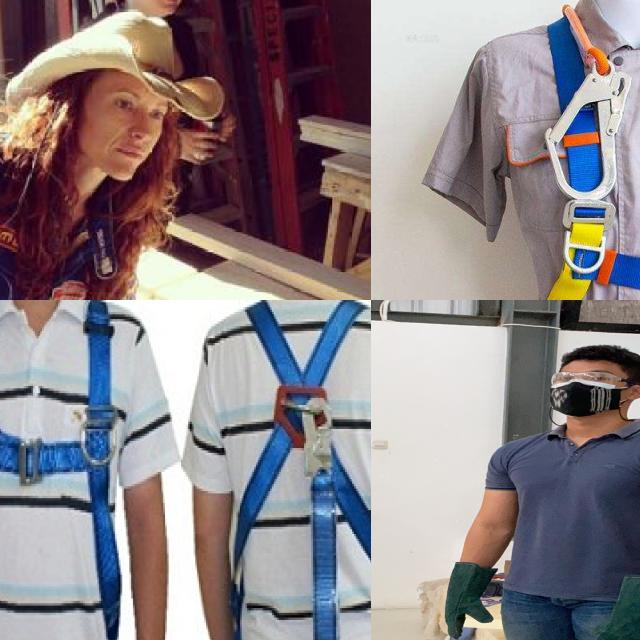Harness: (228, 300, 371, 630), (0, 300, 113, 640), (528, 18, 640, 300)
face_mask: (546, 367, 628, 414)
face_nomask: (101, 90, 166, 170)
glasses: (544, 369, 640, 390)
hand_glove: (427, 560, 503, 640), (590, 574, 640, 640)
hand_noglove: (175, 120, 221, 166)
head_nohelmet: (59, 10, 201, 100), (547, 339, 640, 371)
person: (0, 9, 205, 300), (440, 342, 640, 640)
